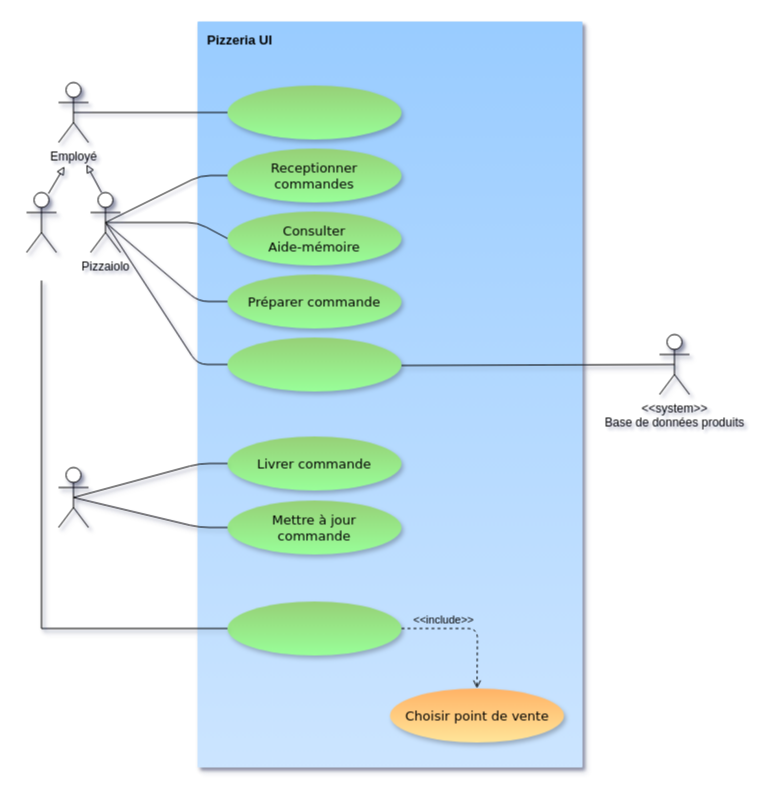
The diagram is 767 pixels wide and 797 high, and some of its shapes have lost their labels. Each missing label, with the centre of its shape:
"Directeur" goes at [42,224].
"Livreur" goes at [74,498].
"Mettre à jour Stock" goes at [315,365].
"Suivre commandes" goes at [315,113].
"Suivre points de vente" goes at [315,629].
